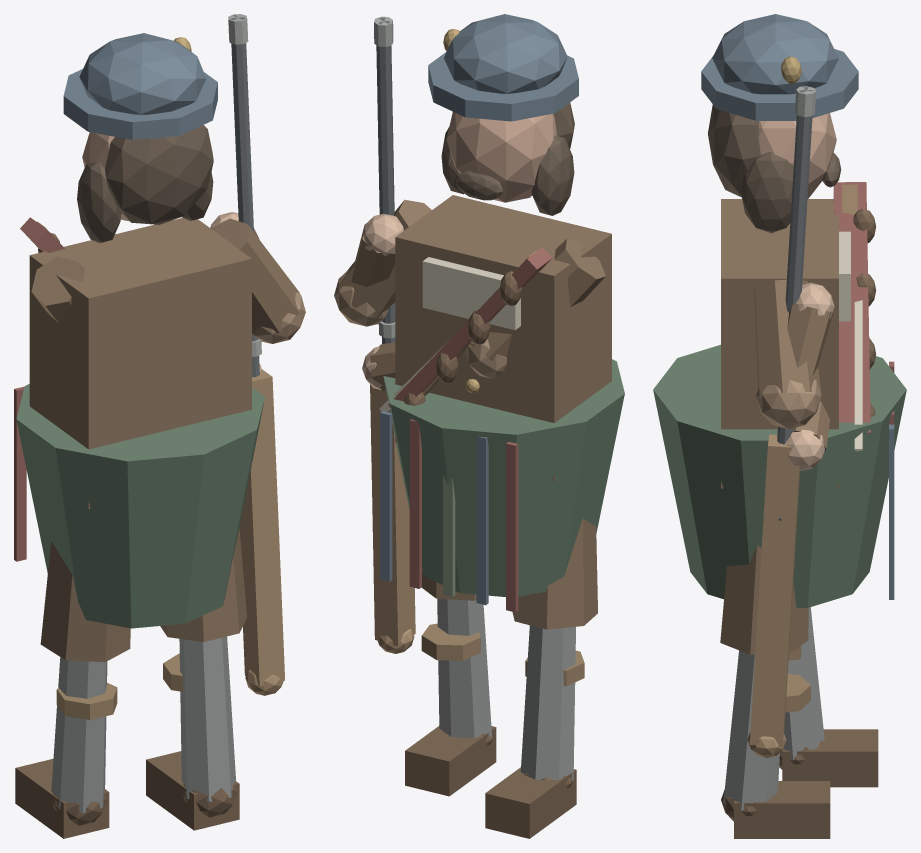
The model's file is jacobite_highlander_musket_ready.glb.
The picture shows the model from 3 angles, left to right: view 1: azimuth 30°, elevation 25°; view 2: azimuth 150°, elevation 25°; view 3: azimuth 270°, elevation 25°; orthographic projection. The views are drawn at different scales.
Visible parts, largest first — view 1: brown, tartan_g, grey, blue, hair, wood_lt, leather, iron, tartan_r, leather_lt, brown_lt, skin (+1 smaller); view 2: brown, tartan_g, grey, blue, leather, tartan_r, wood_lt, skin, hair, tartan_b, linen, iron (+5 smaller); view 3: tartan_g, brown, blue, leather, wood_lt, grey, hair, tartan_r, iron, skin, linen, brown_lt (+4 smaller).
Boxes of the visible parts, bbox=[...] form: brown: bbox=[29, 218, 299, 662]; tartan_g: bbox=[16, 384, 264, 628]; grey: bbox=[51, 636, 235, 813]; blue: bbox=[63, 33, 217, 139]; hair: bbox=[77, 125, 213, 243]; wood_lt: bbox=[239, 369, 284, 695]; leather: bbox=[15, 233, 239, 838]; iron: bbox=[230, 15, 259, 377]; tartan_r: bbox=[14, 217, 64, 561]; leather_lt: bbox=[37, 221, 182, 719]; brown_lt: bbox=[254, 292, 305, 343]; skin: bbox=[82, 132, 129, 221]; brown: bbox=[338, 195, 611, 629]; tartan_g: bbox=[383, 359, 624, 596]; grey: bbox=[437, 598, 575, 780]; blue: bbox=[428, 14, 578, 121]; leather: bbox=[404, 271, 576, 838]; tartan_r: bbox=[388, 247, 552, 612]; wood_lt: bbox=[370, 384, 415, 653]; skin: bbox=[446, 112, 556, 202]; hair: bbox=[441, 102, 574, 215]; tartan_b: bbox=[380, 411, 488, 605]; linen: bbox=[379, 257, 520, 411]; iron: bbox=[376, 17, 395, 343]; tartan_g: bbox=[653, 344, 906, 607]; brown: bbox=[720, 199, 838, 654]; blue: bbox=[701, 14, 858, 120]; leather: bbox=[721, 209, 878, 838]; wood_lt: bbox=[747, 434, 799, 757]; grey: bbox=[723, 607, 824, 810]; hair: bbox=[708, 104, 841, 233]; tartan_r: bbox=[833, 182, 894, 433]; iron: bbox=[777, 87, 813, 520]; skin: bbox=[758, 113, 836, 198]; linen: bbox=[839, 231, 862, 450]; brown_lt: bbox=[756, 379, 821, 429].
Size of the model in its own units: 0.6326 by 1.75 by 0.5162.
